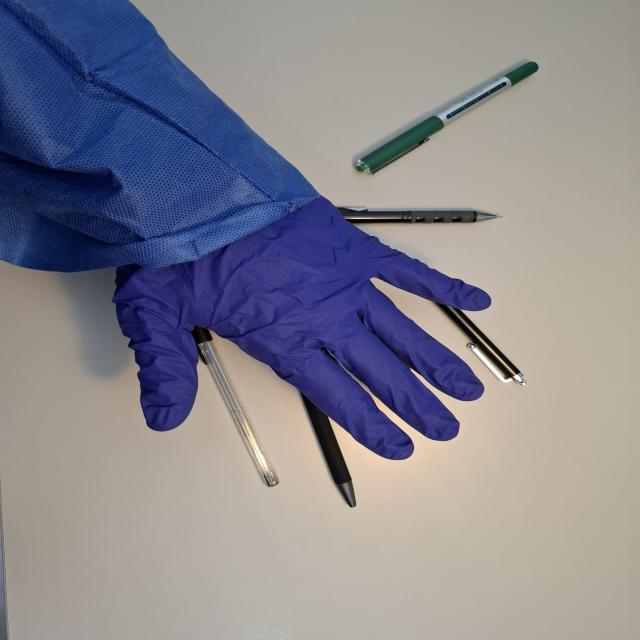glove_on: (108, 182, 496, 462)
